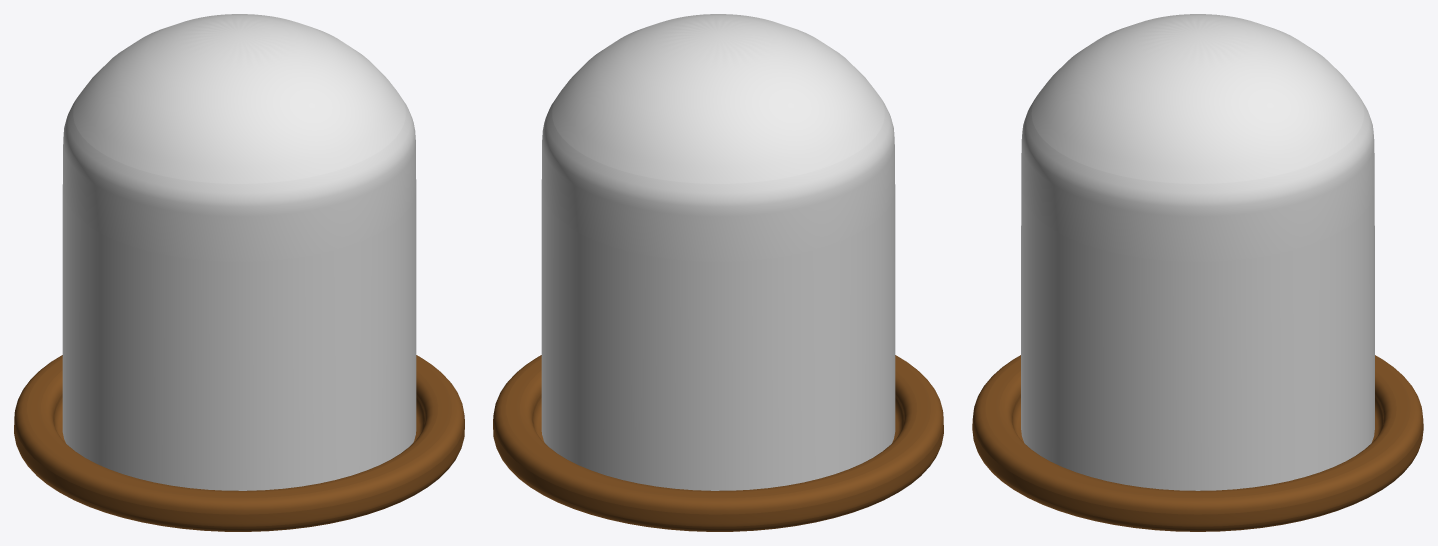
File: MALKERTENKELE .fbx
3 renders of one model, left to right at view 1: azimuth 30°, elevation 25°; view 2: azimuth 150°, elevation 25°; view 3: azimuth 270°, elevation 25°, orthographic.
Visible parts, largest first — view 1: Circle.001, Circle; view 2: Circle.001, Circle; view 3: Circle.001, Circle.
Part boxes in pixels (box(x1,y1,x2,y2)): Circle.001: box(62, 14, 416, 490); Circle: box(14, 355, 464, 531); Circle.001: box(541, 14, 895, 490); Circle: box(493, 355, 943, 531); Circle.001: box(1021, 14, 1374, 490); Circle: box(972, 355, 1423, 531).
Bounding box in the file's own units: 459 × 473 × 459.
